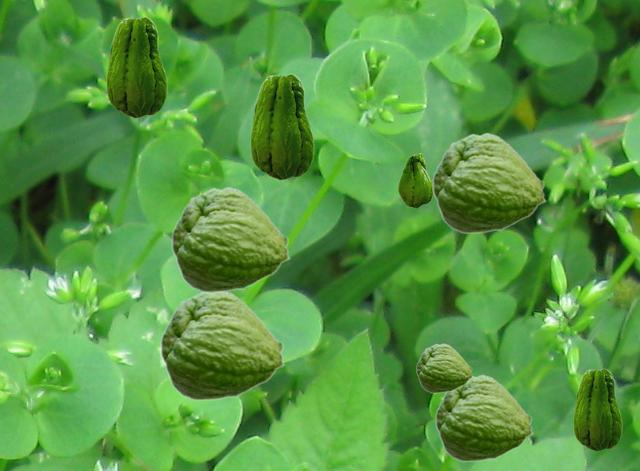sayote: (160, 291, 285, 400), (171, 186, 290, 292), (432, 132, 546, 233), (435, 374, 533, 461), (250, 73, 313, 179), (106, 16, 166, 117), (573, 368, 621, 450), (416, 343, 472, 392), (398, 153, 432, 207)
